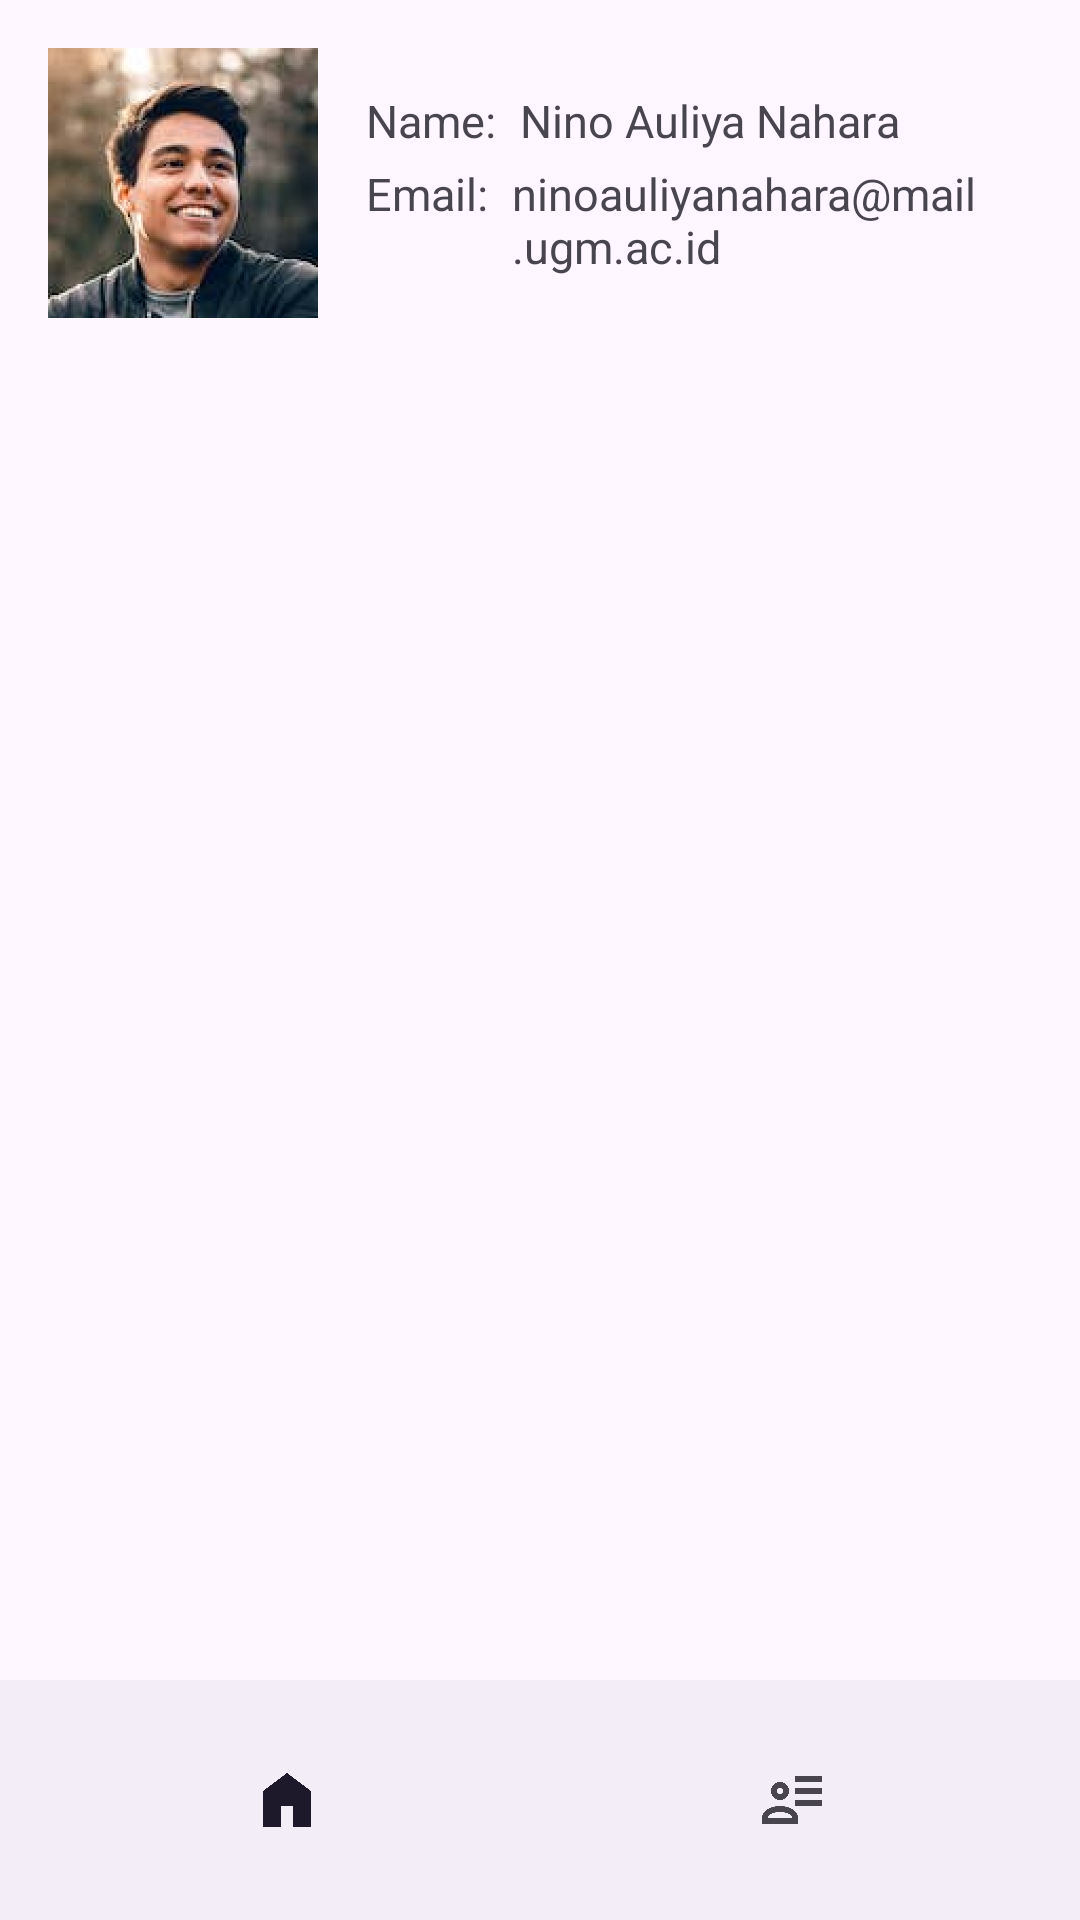

Icon click points for this 1080x1920 phone screenshot, format (x=x, y=y):
foto profil: (x=183, y=183)
